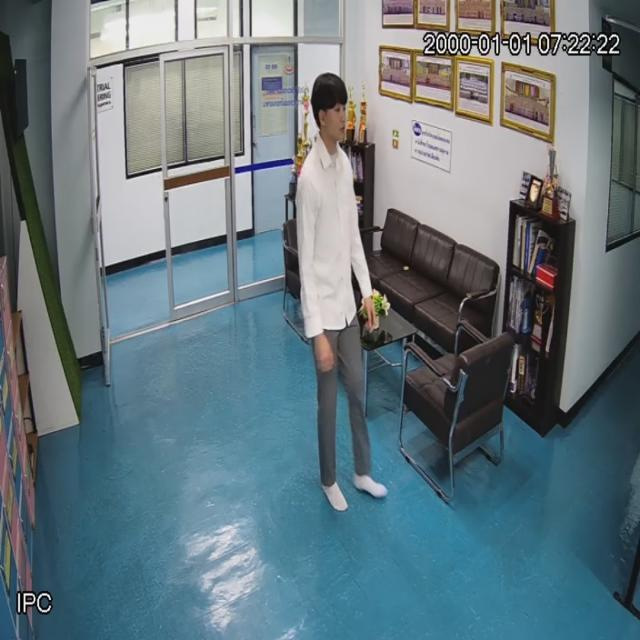normal: (296, 73, 372, 510)
